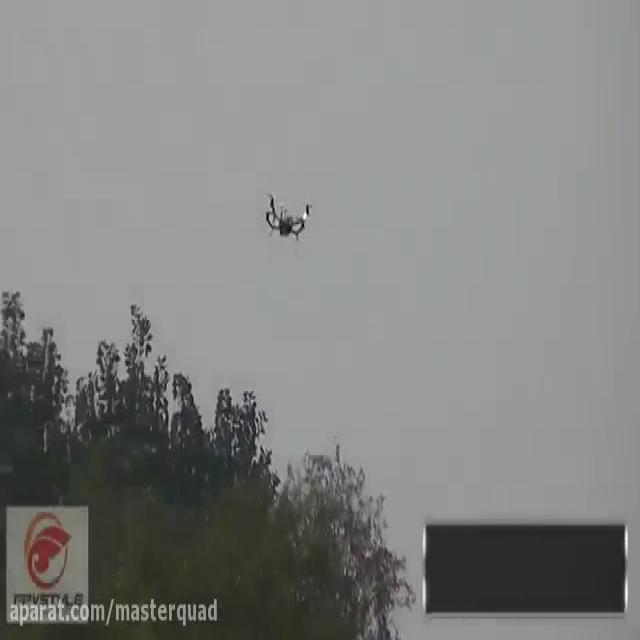drone: (257, 186, 316, 242)
